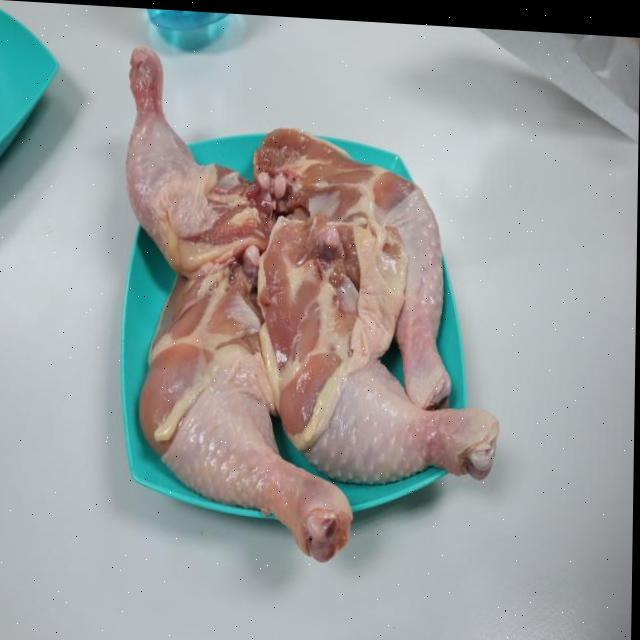quater: (141, 235, 355, 557), (256, 217, 516, 478), (258, 111, 462, 402), (127, 48, 275, 280)
